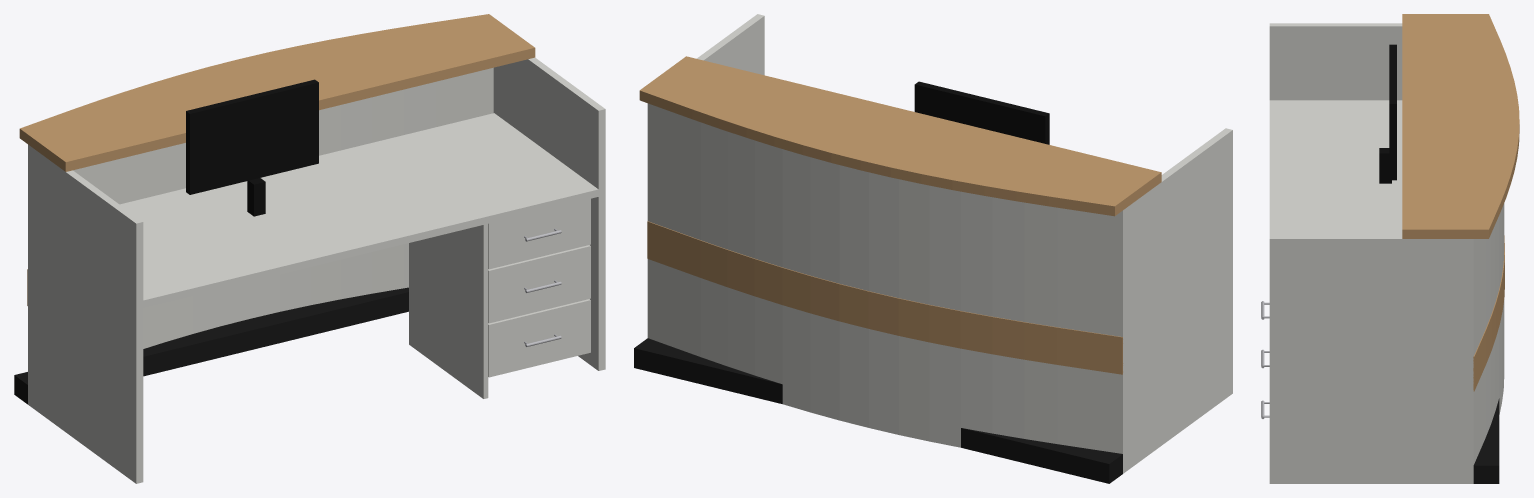
Rendered from 097_reception_desk.glb.
The picture shows the model from 3 angles, left to right: view 1: azimuth 30°, elevation 25°; view 2: azimuth 150°, elevation 25°; view 3: azimuth 270°, elevation 25°; orthographic projection. The views are drawn at different scales.
Parts seen in each view (by area): view 1: 004_work_surface, 005_end_gable, 002_transaction_top, 000_curved_front_fascia, 006_end_gable, 036_monitor, 035_pedestal_side, 007_kick, 008_drawer_1_front, 017_drawer_2_front, 026_drawer_3_front, 037_monitor_stand; view 2: 000_curved_front_fascia, 002_transaction_top, 005_end_gable, 001_fascia_accent_band, 007_kick, 036_monitor, 006_end_gable; view 3: 006_end_gable, 002_transaction_top, 004_work_surface, 005_end_gable, 000_curved_front_fascia, 007_kick, 001_fascia_accent_band, 036_monitor, 037_monitor_stand.
Boxes of the visible parts, bbox=[...] form: 004_work_surface: bbox=[120, 113, 598, 307]; 005_end_gable: bbox=[28, 144, 143, 483]; 002_transaction_top: bbox=[19, 14, 535, 171]; 000_curved_front_fascia: bbox=[28, 67, 493, 404]; 006_end_gable: bbox=[493, 57, 605, 370]; 036_monitor: bbox=[186, 79, 318, 194]; 035_pedestal_side: bbox=[409, 224, 488, 398]; 007_kick: bbox=[14, 287, 408, 404]; 008_drawer_1_front: bbox=[488, 299, 590, 377]; 017_drawer_2_front: bbox=[488, 245, 590, 323]; 026_drawer_3_front: bbox=[488, 197, 590, 269]; 037_monitor_stand: bbox=[247, 178, 265, 216]; 000_curved_front_fascia: bbox=[647, 103, 1127, 473]; 002_transaction_top: bbox=[639, 56, 1161, 216]; 005_end_gable: bbox=[1123, 128, 1232, 473]; 001_fascia_accent_band: bbox=[647, 221, 1123, 374]; 007_kick: bbox=[634, 338, 1122, 483]; 036_monitor: bbox=[914, 81, 1049, 144]; 006_end_gable: bbox=[696, 14, 764, 75]; 006_end_gable: bbox=[1269, 235, 1473, 483]; 002_transaction_top: bbox=[1402, 14, 1519, 238]; 004_work_surface: bbox=[1269, 100, 1402, 235]; 005_end_gable: bbox=[1269, 23, 1402, 100]; 000_curved_front_fascia: bbox=[1466, 203, 1504, 483]; 007_kick: bbox=[1473, 398, 1499, 483]; 001_fascia_accent_band: bbox=[1473, 235, 1504, 391]; 036_monitor: bbox=[1389, 44, 1396, 180]; 037_monitor_stand: bbox=[1379, 148, 1391, 183].
Size of the model in its own units: 2 by 1.2 by 1.01.
